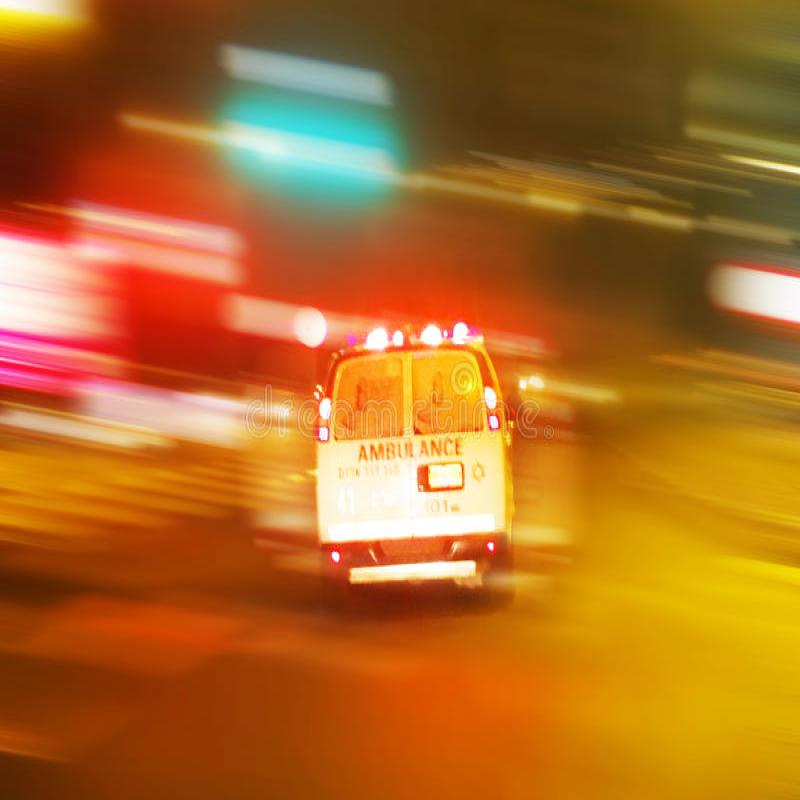ambulance: (272, 306, 540, 630)
